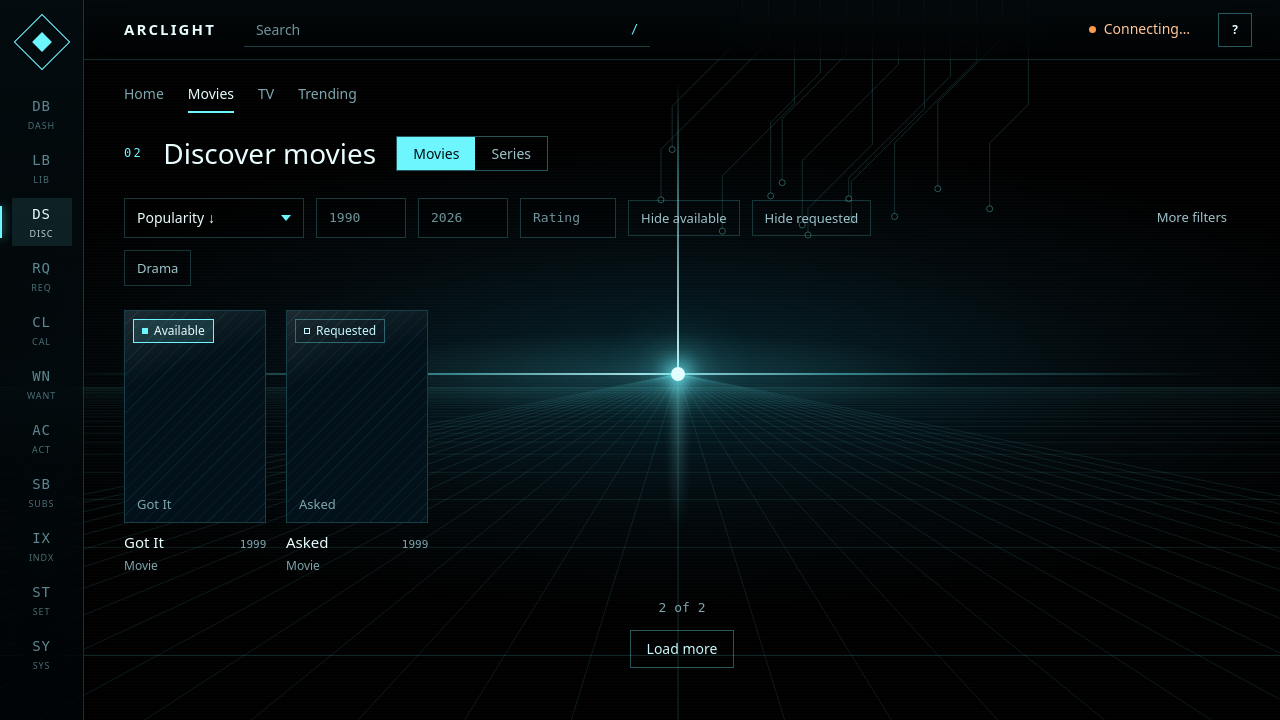
Test: discover › renders the grid with status badges and loads the next page
This screenshot has width=1280, height=720.
Check: the text "Available" is shown, box [133,319,214,343]
Check: the text "Requested" is shown, box [295,319,385,343]
Click the button "Load more" at (682, 649), box [630,630,734,668]
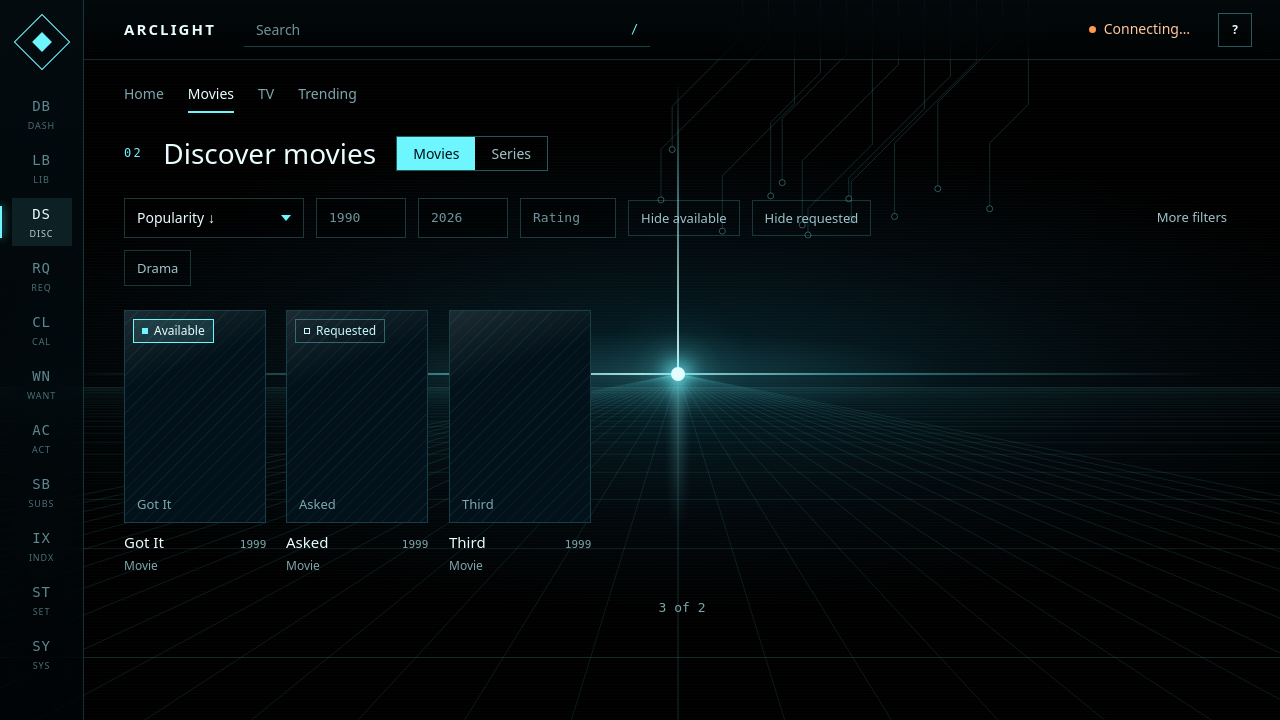
Check: the element named "Third" is shown, box [449,557,482,574]
